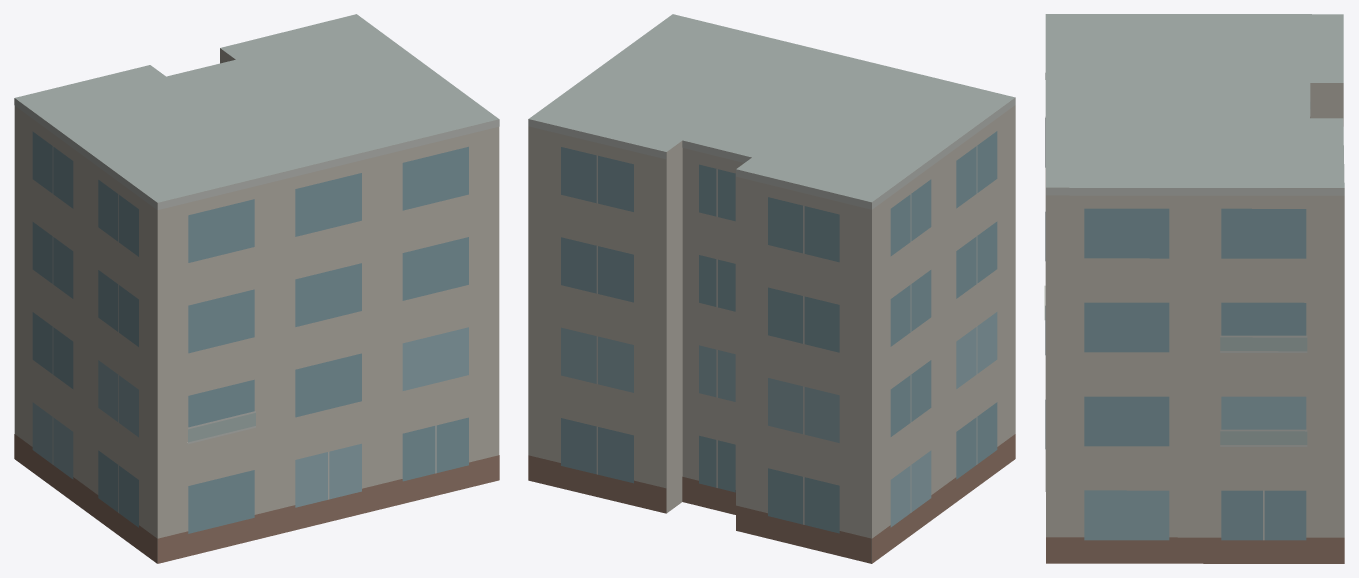
Rendered from survey-upis-33037642.glb.
3 renders of one model, left to right at view 1: azimuth 30°, elevation 25°; view 2: azimuth 150°, elevation 25°; view 3: azimuth 270°, elevation 25°, orthographic. The views are drawn at different scales.
Visible parts, largest first — view 1: survey-upis-33037642.tmp; view 2: survey-upis-33037642.tmp; view 3: survey-upis-33037642.tmp.
Part boxes in pixels (<box>): survey-upis-33037642.tmp: <box>14,14,499,563</box>; survey-upis-33037642.tmp: <box>528,14,1015,563</box>; survey-upis-33037642.tmp: <box>1044,14,1344,563</box>.
Size of the model in its own units: 11.87 by 11.9 by 8.63.
